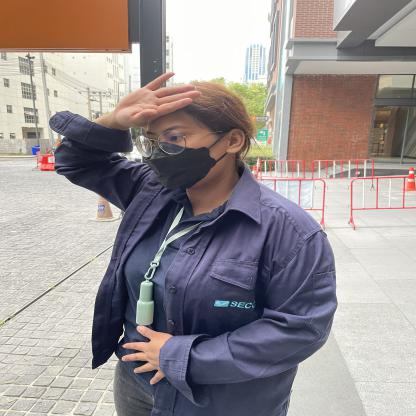Sick: (35, 58, 238, 158)
